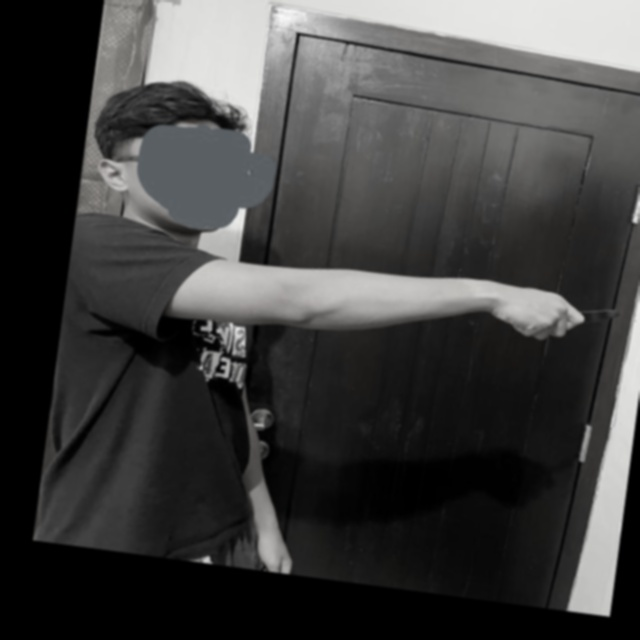Sharp-Object: (577, 304, 622, 328)
